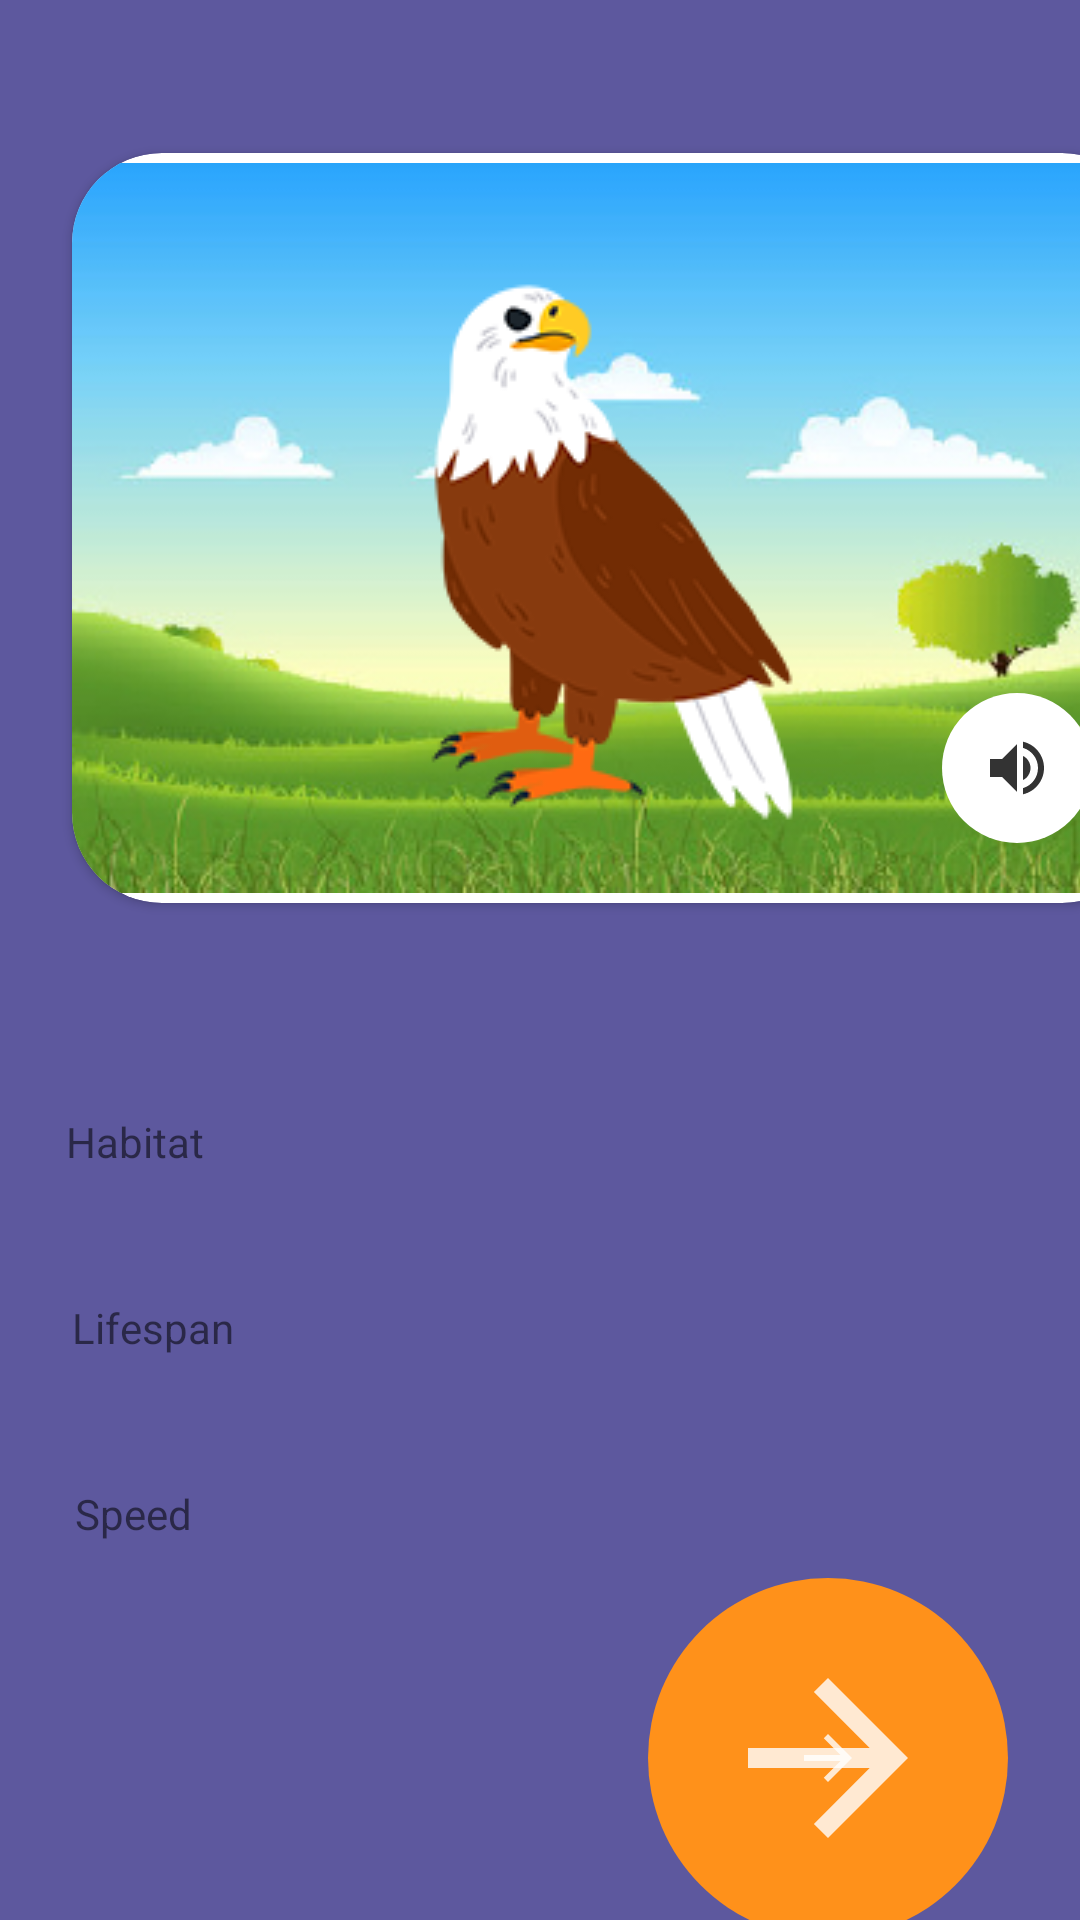

Icons on this 1080*1920 Android screen, each with the point to tap as point (x, y):
arrow next: point (828, 1758)
speaker: point (1017, 768)
